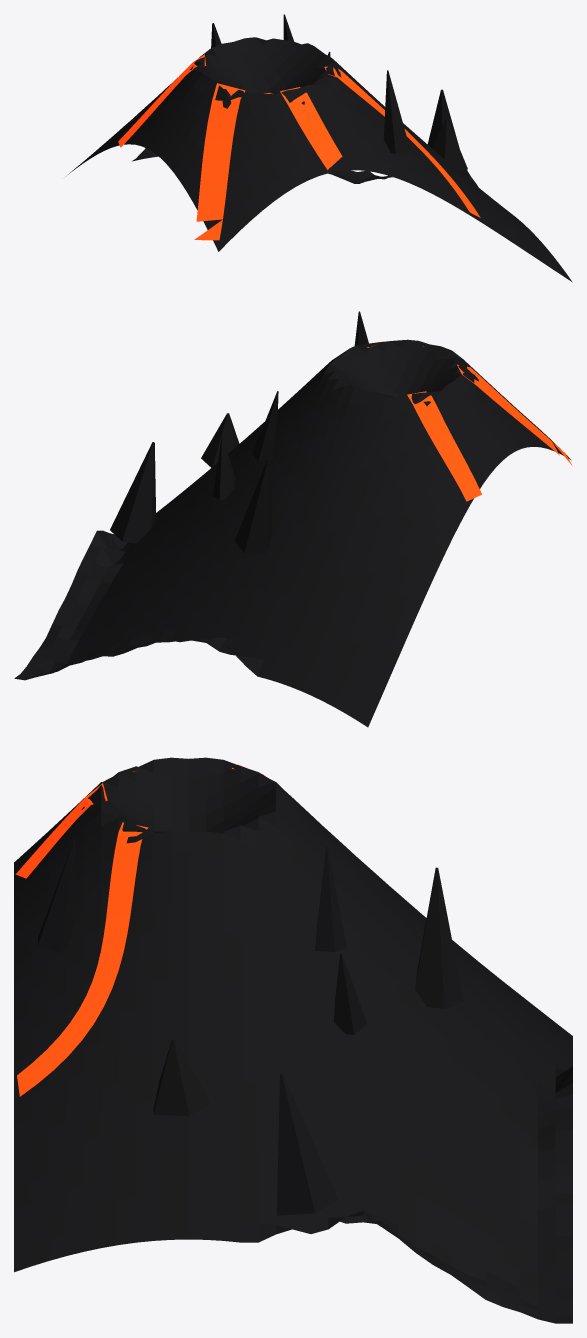
Rendered from chunk-6-1.glb.
3 views of the same model, one above another, from view 1: azimuth 30°, elevation 25°; view 2: azimuth 150°, elevation 25°; view 3: azimuth 270°, elevation 25° (orthographic). The views are drawn at different scales.
Parts seen in each view (by area): view 1: Mountain_Rock, Lava; view 2: Mountain_Rock, Lava; view 3: Mountain_Rock, Lava.
Boxes of the visible parts, bbox=[...] form: Mountain_Rock: bbox=[68, 14, 572, 282]; Lava: bbox=[118, 54, 480, 240]; Mountain_Rock: bbox=[14, 311, 571, 727]; Lava: bbox=[367, 341, 572, 501]; Mountain_Rock: bbox=[14, 757, 572, 1323]; Lava: bbox=[15, 764, 264, 1096].
Size of what is drawn, in the model's own units: 82.83 by 59.26 by 80.
